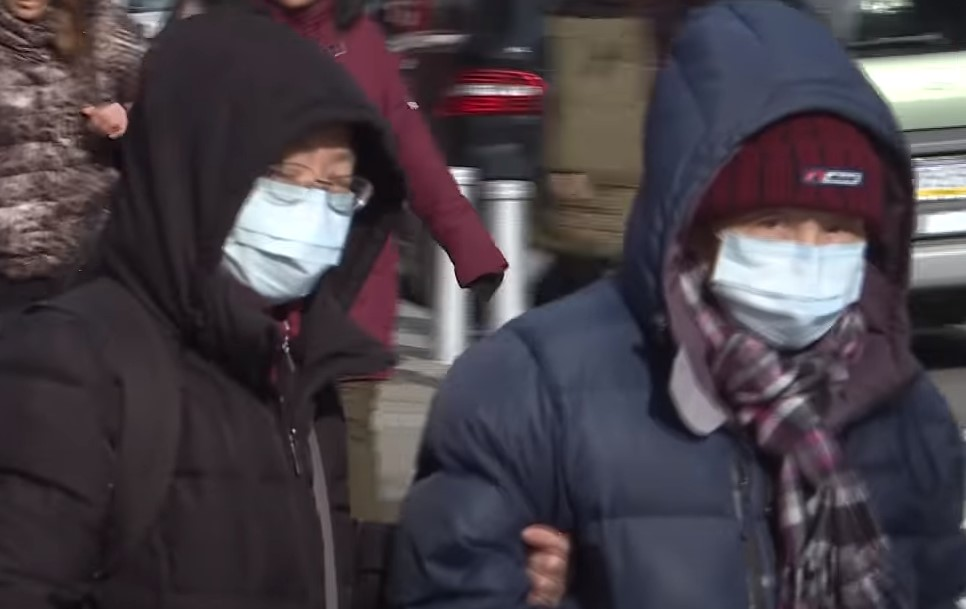face_with_mask: (649, 81, 917, 360), (173, 48, 381, 311)
